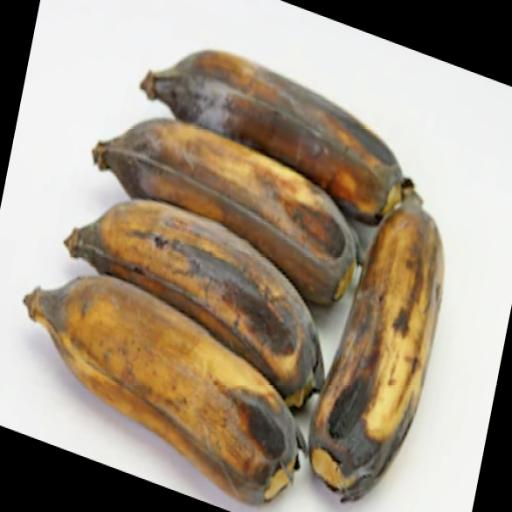banana-overripe: (21, 47, 460, 512)
